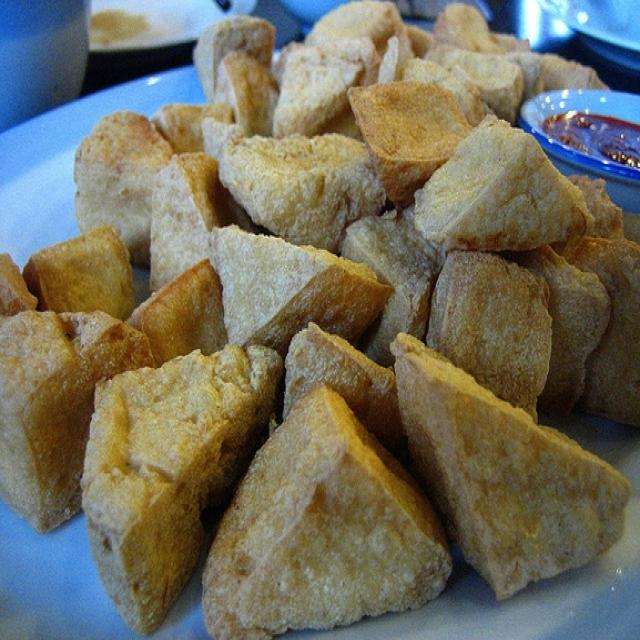豆腐料理: (15, 15, 628, 621)
